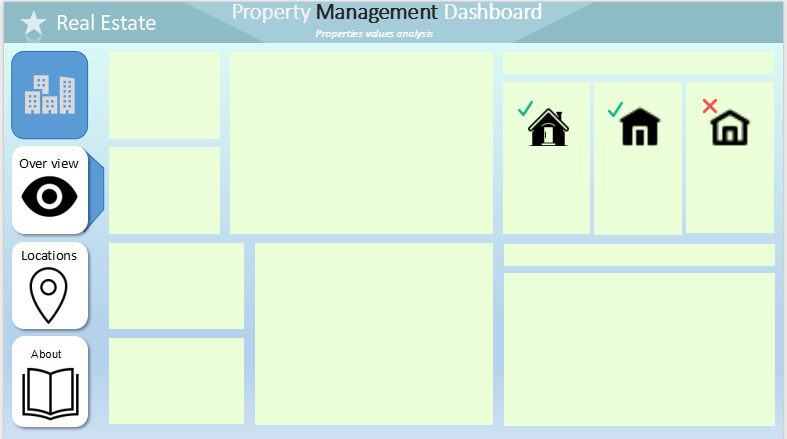

The page's visual inventory and layout, read from the dashboard file:
{"tool":"powerbi","page":{"name":"Over View","canvas":[1280,720],"ordinal":0},"visuals":[{"type":"barChart","title":"Bedrooms contained in the properties","fields":{"Category":["Dim Bedrooms.Bedrooms"],"Y":["Measure Table.Total properties"]},"box":[384,96,400,272],"z":0},{"type":"card","title":"Total Properties","fields":{"Values":["Measure Table.Total properties"]},"box":[624,256,144,112],"z":1000},{"type":"card","fields":{"Values":["Measure Table.Waterfronts yes"]},"box":[192,320,64,48],"z":2000},{"type":"card","title":"Has no water front","fields":{"Values":["Measure Table.Waterfronts No"]},"box":[176,160,96,64],"z":3000},{"type":"card","fields":{"Values":["Measure Table.% Waterfronts yes"]},"box":[280,320,64,48],"z":4000},{"type":"card","fields":{"Values":["Measure Table.% Waterfronts vo"]},"box":[272,168,80,48],"z":5000},{"type":"textbox","box":[176,128,176,35],"z":6000},{"type":"textbox","box":[176,272,176,35],"z":7000},{"type":"textbox","box":[176,96,176,35],"z":8000},{"type":"textbox","box":[176,240,176,35],"z":9000},{"type":"shape","box":[256,160,16,64],"z":10000},{"type":"shape","box":[256,304,16,64],"z":11000},{"type":"textbox","box":[192,400,176,34],"z":12000},{"type":"textbox","box":[192,560,176,34],"z":13000},{"type":"textbox","box":[208,432,144,34],"z":14000},{"type":"textbox","box":[192,592,176,34],"z":15000},{"type":"card","fields":{"Values":["Measure Table.Renovated yes"]},"box":[192,464,64,48],"z":16000},{"type":"card","fields":{"Values":["Measure Table.Renovated no"]},"box":[208,624,64,48],"z":17000},{"type":"card","fields":{"Values":["Measure Table.% Renovated yes"]},"box":[304,464,68,50],"z":18000},{"type":"card","fields":{"Values":["Measure Table.% Renovated no"]},"box":[304,624,68,50],"z":19000},{"type":"shape","box":[272,464,16,64],"z":20000},{"type":"shape","box":[272,624,16,64],"z":21000},{"type":"barChart","title":" Properties floors","fields":{"Category":["Dim Floors.Floors"],"Y":["Measure Table.Total properties"]},"box":[416,400,384,288],"z":22000},{"type":"textbox","box":[896,88,288,34],"z":23000},{"type":"card","title":"Very Good","fields":{"Values":["Measure Table.Very good"]},"box":[848,256,96,80],"z":24000},{"type":"card","title":"Good","fields":{"Values":["Measure Table.Good"]},"box":[992,256,96,80],"z":25000},{"type":"card","title":"Bad","fields":{"Values":["Measure Table.Bad"]},"box":[1136,256,96,80],"z":26000},{"type":"card","fields":{"Values":["Measure Table.% Very good"]},"box":[864,336,64,32],"z":27000},{"type":"card","fields":{"Values":["Measure Table.% Good"]},"box":[1008,336,64,32],"z":28000},{"type":"card","fields":{"Values":["Measure Table.% Bad"]},"box":[1152,336,64,32],"z":29000},{"type":"textbox","box":[816,400,448,34],"z":30000},{"type":"lineChart","fields":{"Y":["Measure Table.Total properties"],"Category":["FastTable.yr_built"]},"box":[832,464,432,224],"z":31000},{"type":"actionButton","box":[1184,640,80,64],"z":32000}]}

Visuals, with their boxes on the page's 1280x720 design canvas (x1, y1, x2, y2). These are canvas units, not pixel positions in the 787x439 screenshot, which may show the page scaled, cropped or inside an application window:
"Bedrooms contained in the properties" barChart: 384,96,784,368
"Total Properties" card: 624,256,768,368
card - Measure Table.Waterfronts yes: 192,320,256,368
"Has no water front" card: 176,160,272,224
card - Measure Table.% Waterfronts yes: 280,320,344,368
card - Measure Table.% Waterfronts vo: 272,168,352,216
textbox: 176,128,352,163
textbox: 176,272,352,307
textbox: 176,96,352,131
textbox: 176,240,352,275
shape: 256,160,272,224
shape: 256,304,272,368
textbox: 192,400,368,434
textbox: 192,560,368,594
textbox: 208,432,352,466
textbox: 192,592,368,626
card - Measure Table.Renovated yes: 192,464,256,512
card - Measure Table.Renovated no: 208,624,272,672
card - Measure Table.% Renovated yes: 304,464,372,514
card - Measure Table.% Renovated no: 304,624,372,674
shape: 272,464,288,528
shape: 272,624,288,688
" Properties floors" barChart: 416,400,800,688
textbox: 896,88,1184,122
"Very Good" card: 848,256,944,336
"Good" card: 992,256,1088,336
"Bad" card: 1136,256,1232,336
card - Measure Table.% Very good: 864,336,928,368
card - Measure Table.% Good: 1008,336,1072,368
card - Measure Table.% Bad: 1152,336,1216,368
textbox: 816,400,1264,434
lineChart - Measure Table.Total properties x FastTable.yr_built: 832,464,1264,688
actionButton: 1184,640,1264,704
